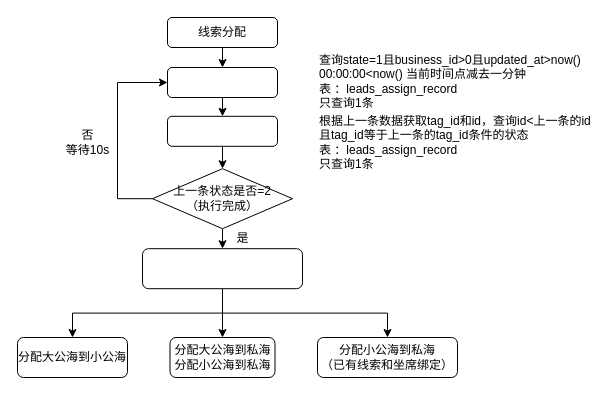
This 615x395 diagram has some shape labels left out. Each missing label, with the centre of its shape:
更新 leads_assign_record表 updated_at时间为当前时间: the point at 222,268
获取上一条任务: the point at 222,130
获取待完成任务: the point at 222,82
